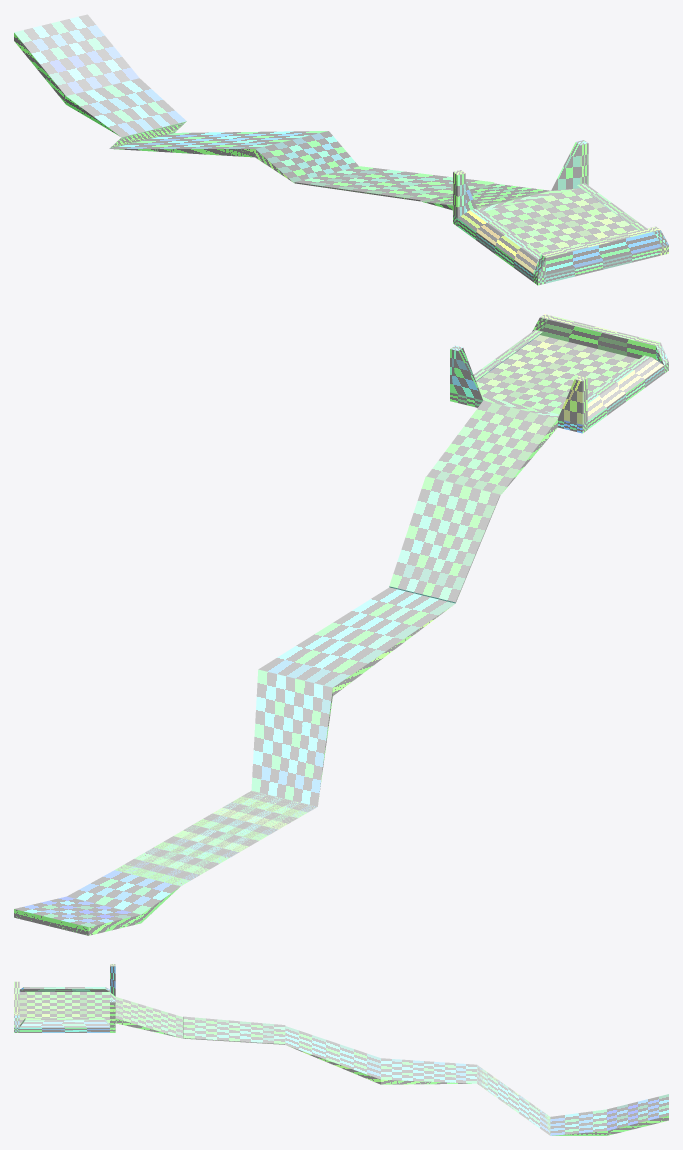
Rendered from Level2.gltf.
The picture shows the model from 3 angles, top to bottom: view 1: azimuth 30°, elevation 25°; view 2: azimuth 150°, elevation 25°; view 3: azimuth 270°, elevation 25°; orthographic projection. The views are drawn at different scales.
Parts seen in each view (by area): view 1: Cube; view 2: Cube; view 3: Cube.
Boxes of the visible parts, box(x1,y1,x2,y2) form: Cube: box(14, 14, 668, 285); Cube: box(14, 314, 668, 935); Cube: box(14, 964, 668, 1135).
Size of the model in its own units: 21 by 28 by 116.
